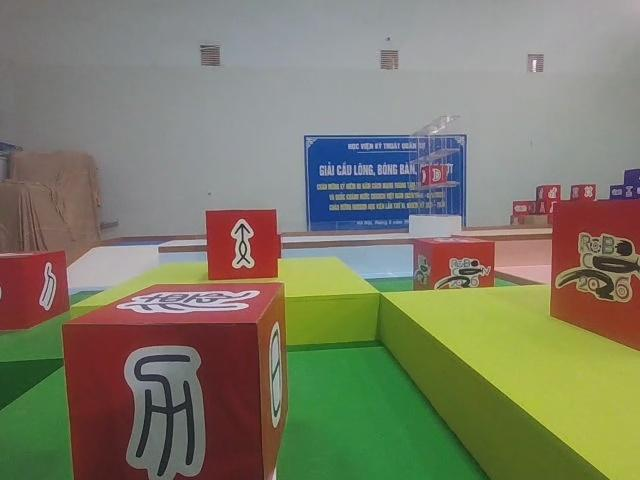R1: (548, 201, 640, 349), (413, 237, 497, 293)
R2 Fake: (66, 278, 285, 480)
R2 Real: (0, 249, 68, 334), (204, 209, 279, 279)
